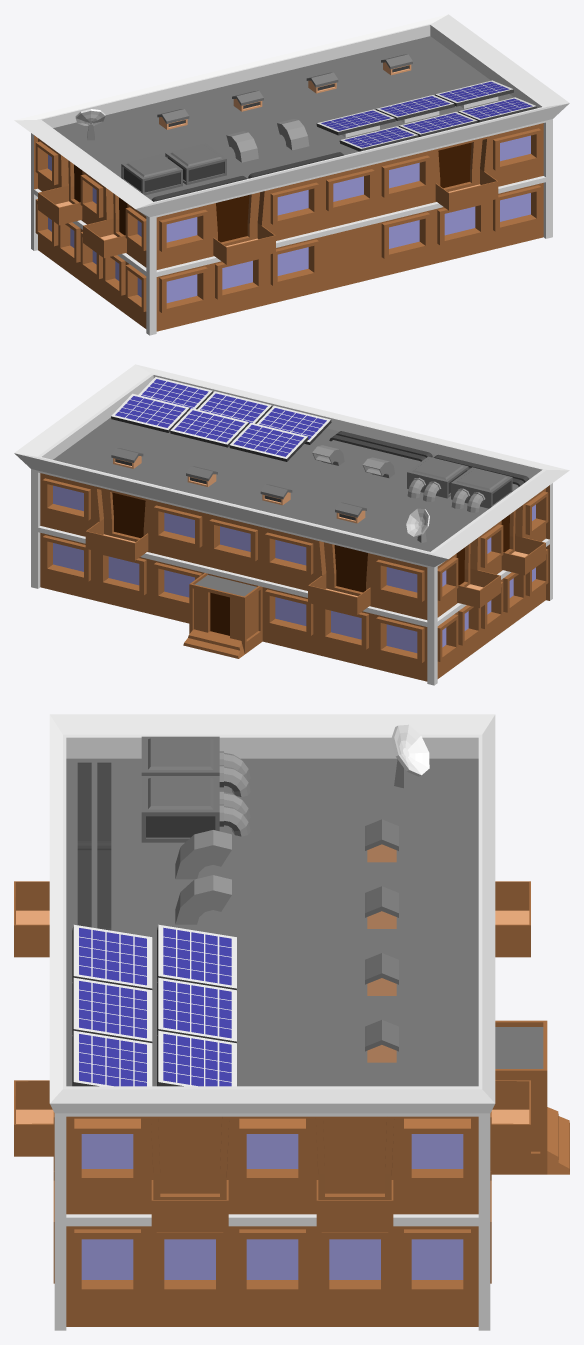
Rendered from Apartment Brown Bottom.FBX.
3 renders of one model, top to bottom at view 1: azimuth 30°, elevation 25°; view 2: azimuth 150°, elevation 25°; view 3: azimuth 270°, elevation 25°, orthographic. The views are drawn at different scales.
Visible parts, largest first — view 1: Apartment brown bottom; view 2: Apartment brown bottom; view 3: Apartment brown bottom.
Part boxes in pixels (box(x1,y1,x2,y2)): Apartment brown bottom: box(14, 14, 569, 335); Apartment brown bottom: box(14, 364, 569, 685); Apartment brown bottom: box(14, 714, 569, 1330).
Size of the model in its own units: 1231 by 399 by 731.
Materials: 1 (1 with a texture image).
